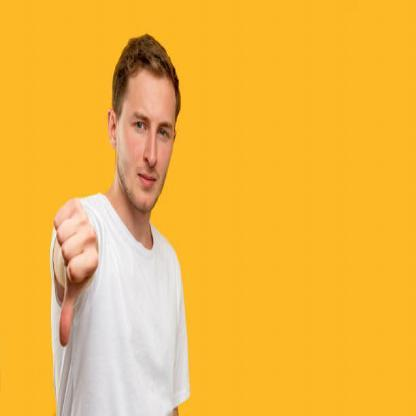thumb_down: (51, 193, 102, 352)
